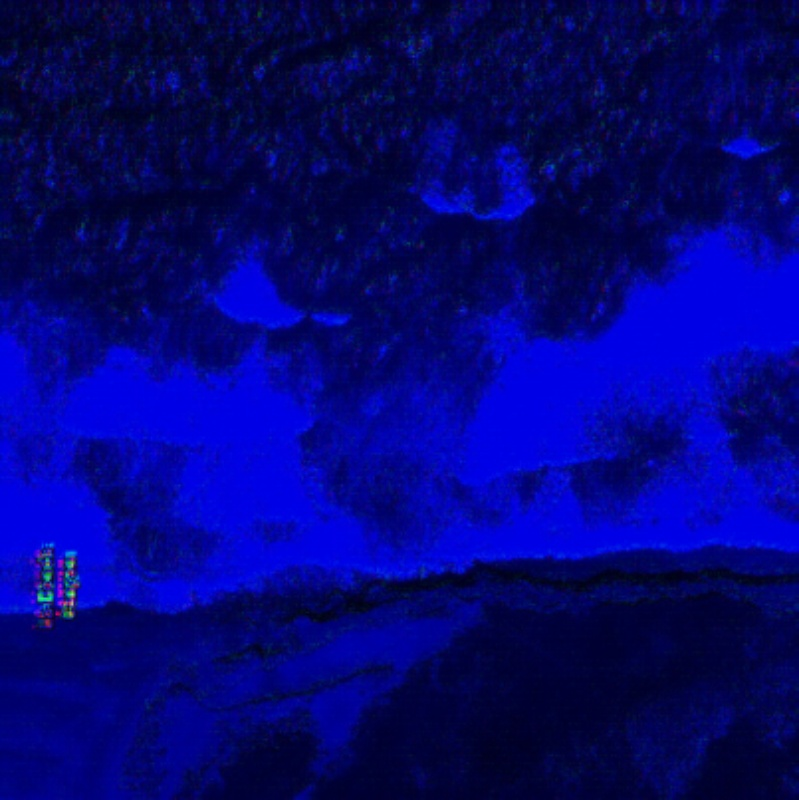rip_current: (229, 98, 565, 534)
